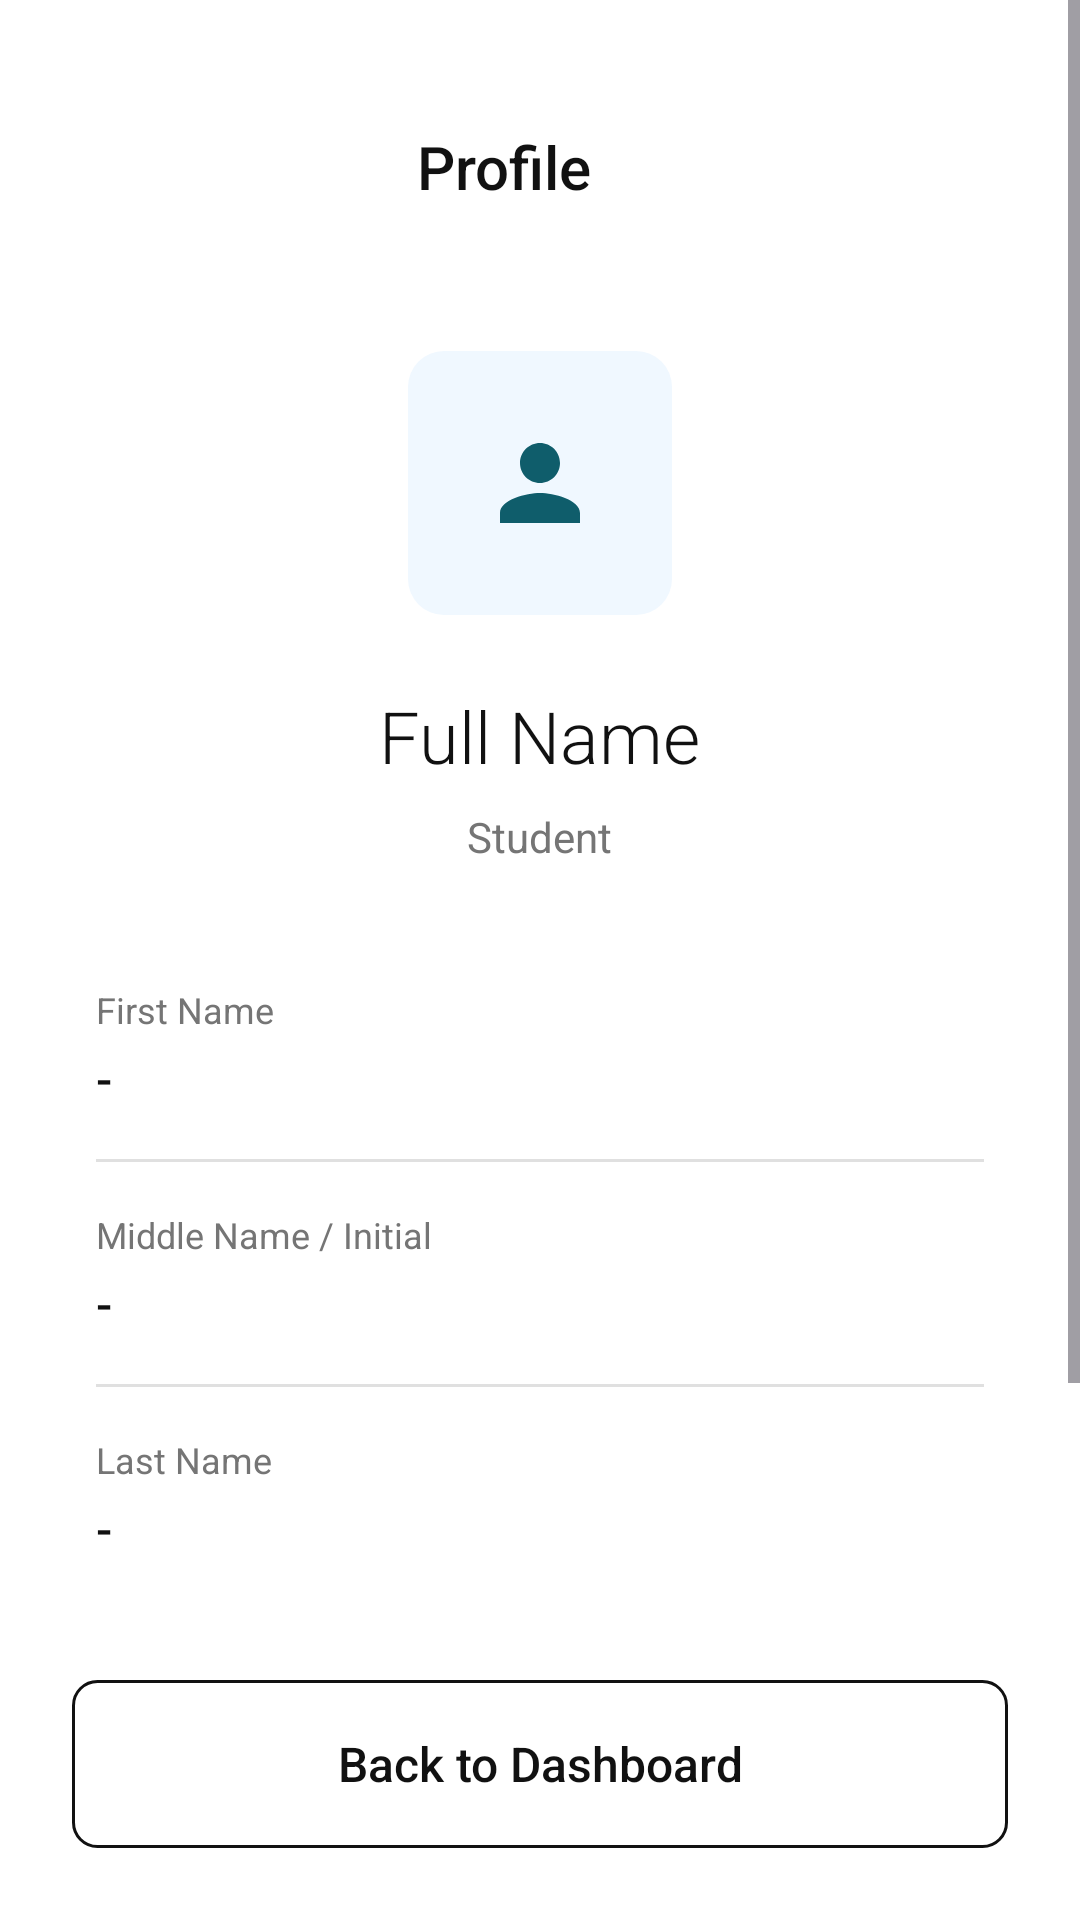

Locate icon controls on the screen. Image size 1080px x 1920px, boxes as [x1=x1, y1=y1, x2=x2, y2=y2].
modern person: [x1=500, y1=443, x2=580, y2=523]
